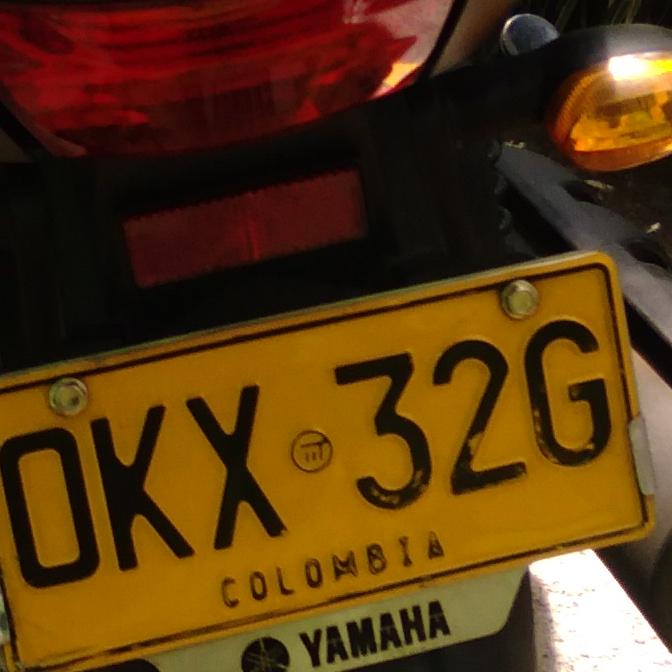plates: (0, 247, 664, 672)
